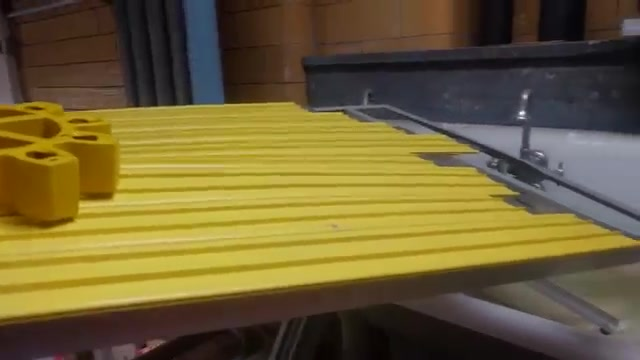gear: (1, 88, 113, 235)
